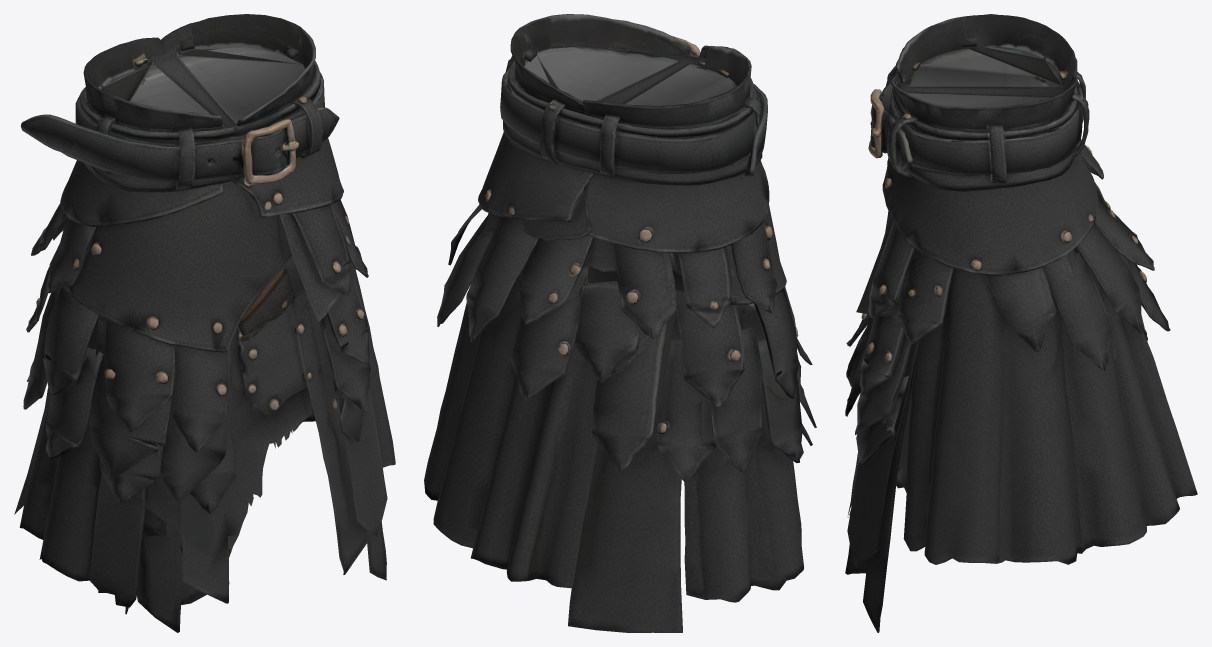
3 views of the same model, side by side, from view 1: azimuth 30°, elevation 25°; view 2: azimuth 150°, elevation 25°; view 3: azimuth 270°, elevation 25° (orthographic). The views are drawn at different scales.
Visible parts, largest first — view 1: Model_0; view 2: Model_0; view 3: Model_0.
Boxes of the visible parts, x1,y1,x2,y2 form: Model_0: [14, 14, 395, 632]; Model_0: [424, 14, 816, 632]; Model_0: [845, 14, 1197, 632].
Bounding box in the file's own units: 0.6868 × 1 × 0.6242.
Materials: 1 (1 with a texture image).
